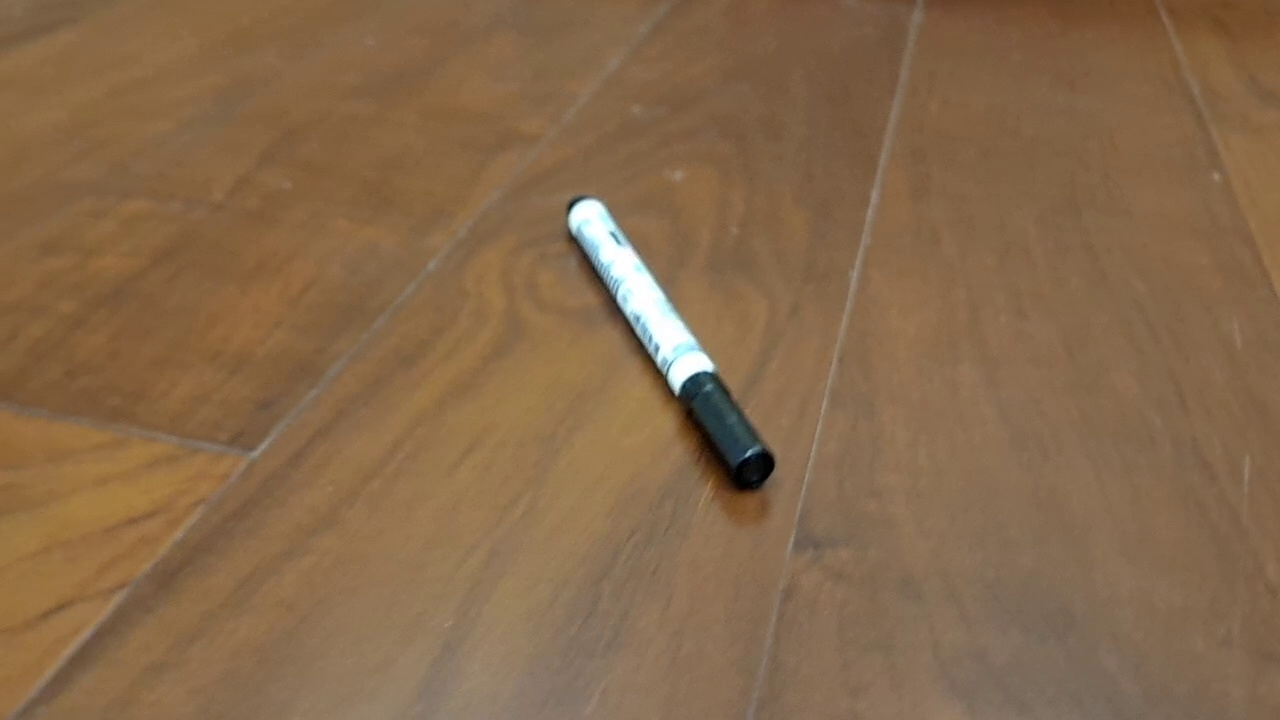pen: (565, 194, 776, 491)
